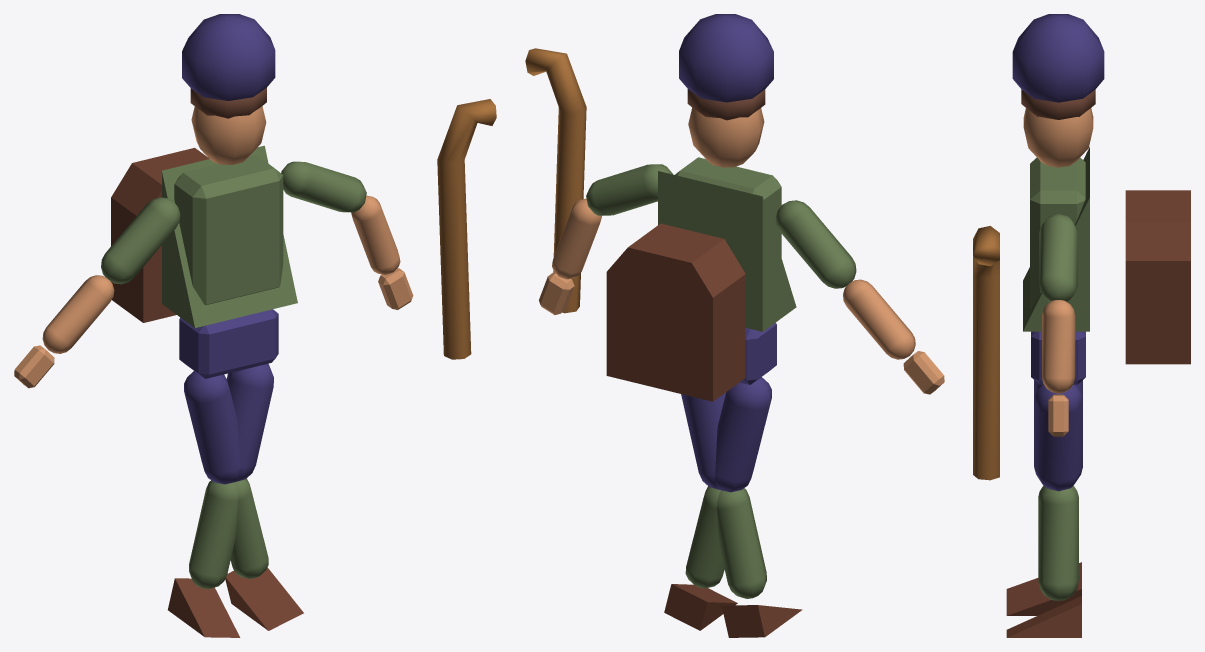
File: adventurer.rustic.glb
3 views of the same model, side by side, from view 1: azimuth 30°, elevation 25°; view 2: azimuth 150°, elevation 25°; view 3: azimuth 270°, elevation 25° (orthographic).
Visible parts, largest first — view 1: torso, accessory.main-hand, accessory.head, tunic, accessory.back, pelvis, thigh.left, shin.right, upper-arm.left, thigh.right, head, upper-arm.right (+8 smaller); view 2: accessory.back, tunic, accessory.head, accessory.main-hand, thigh.left, shin.right, upper-arm.left, head, forearm.left, upper-arm.right, torso, shin.left (+8 smaller); view 3: accessory.back, accessory.main-hand, accessory.head, shin.left, thigh.right, torso, upper-arm.right, head, forearm.right, tunic, foot.left, foot.right (+3 smaller).
Part boxes in pixels (x1,y1,x2,y2): torso: (174,155,283,304); accessory.main-hand: (437,99,496,359); accessory.head: (182,14,275,100); tunic: (162,145,297,327); accessory.back: (111,147,209,322); pelvis: (179,309,278,378); thigh.left: (184,371,239,484); shin.right: (189,480,237,589); upper-arm.left: (101,197,180,284); thigh.right: (226,364,273,481); head: (191,106,266,164); upper-arm.right: (281,161,366,212); accessory.back: (606,223,745,401); tunic: (658,171,796,331); accessory.head: (679,14,773,102); accessory.main-hand: (525,48,586,313); thigh.left: (715,377,771,492); shin.right: (717,488,766,598); upper-arm.left: (775,200,856,288); head: (688,107,764,167); forearm.left: (843,279,915,359); upper-arm.right: (586,164,672,215); torso: (675,157,781,257); shin.left: (685,486,724,588); accessory.back: (1125,190,1190,364); accessory.main-hand: (973,226,999,480); accessory.head: (1012,14,1104,102); shin.left: (1038,486,1078,600); thigh.right: (1034,384,1082,491); torso: (1030,157,1085,307); upper-arm.right: (1039,214,1077,301); head: (1023,108,1093,167); forearm.right: (1042,300,1075,393); tunic: (1023,147,1089,331); foot.left: (1006,596,1081,637); foot.right: (1006,562,1081,615).
Size of the model in its own units: 2.52 by 3.28 by 1.07.
